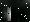person: (5, 8, 11, 22), (17, 10, 23, 21)
